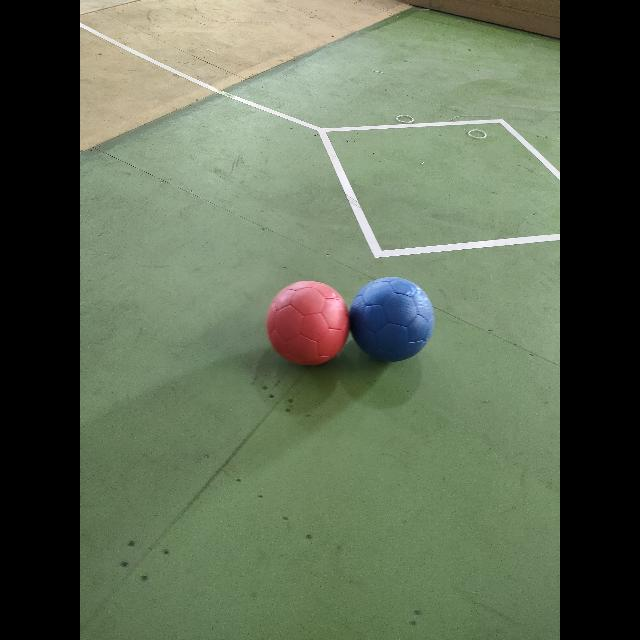B: (350, 278, 434, 361)
R: (266, 281, 350, 365)
